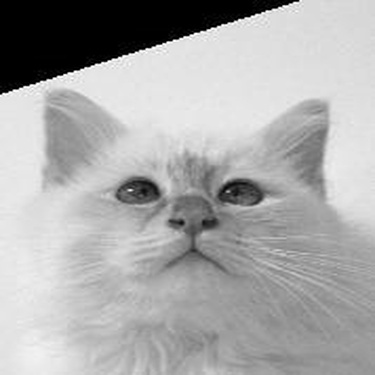cat: (41, 87, 367, 367)
